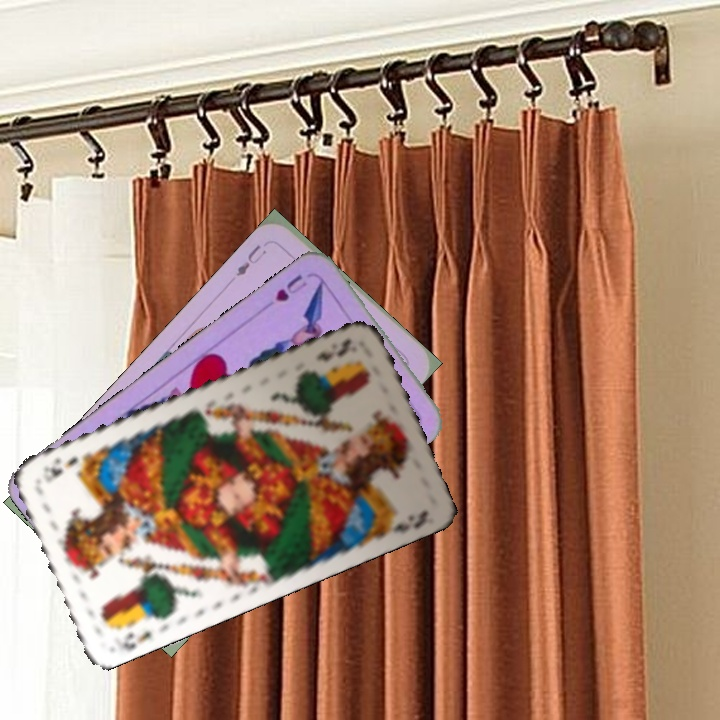EK: (312, 334, 360, 364), (118, 627, 154, 653)
EU: (232, 241, 270, 279)
HU: (261, 270, 310, 311)
